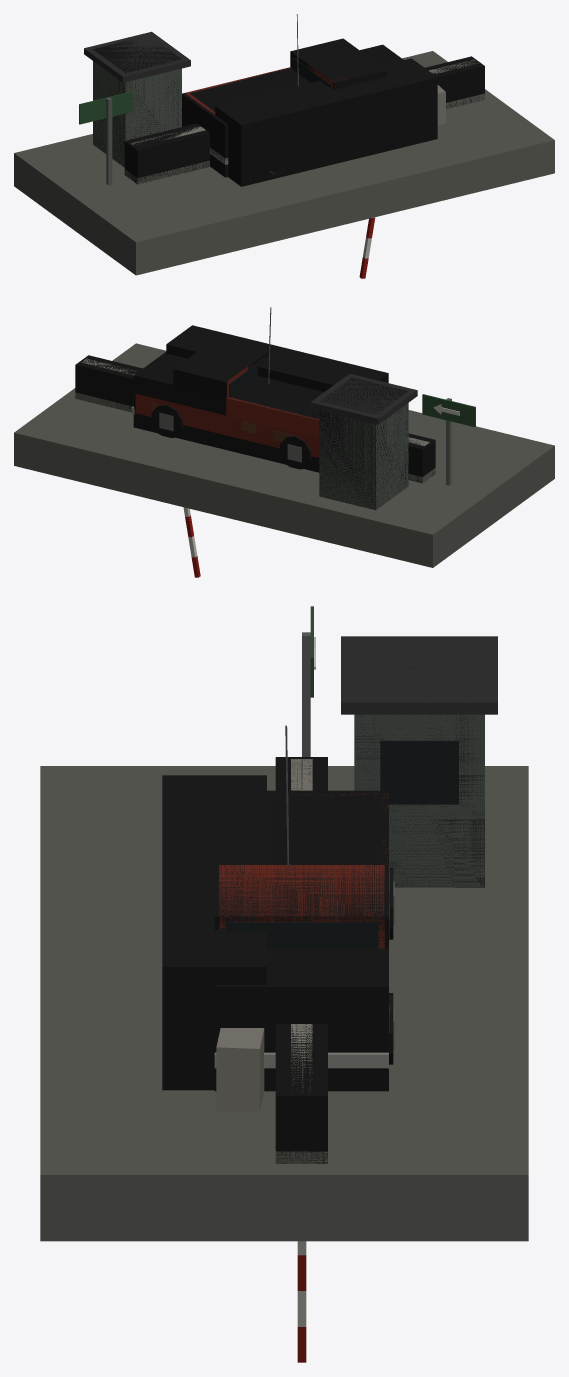
File: exits.glb
3 views of the same model, one above another, from view 1: azimuth 30°, elevation 25°; view 2: azimuth 150°, elevation 25°; view 3: azimuth 270°, elevation 25° (orthographic). The views are drawn at different scales.
Visible parts, largest first — view 1: EXIT_Gate, EXIT_Gate_Barricade_Hull, EXIT_Gate_Hull, EXIT_Truck_Hull, EXIT_Truck, EXIT_Gate_Blocked; view 2: EXIT_Gate, EXIT_Gate_Hull, EXIT_Truck_Hull, EXIT_Truck, EXIT_Gate_Barricade_Hull; view 3: EXIT_Gate, EXIT_Truck_Hull, EXIT_Gate_Barricade_Hull, EXIT_Truck, EXIT_Gate_Hull, EXIT_Gate_Blocked.
Part boxes in pixels (x1=…): EXIT_Gate: x1=14, y1=31, x2=554, y2=278; EXIT_Gate_Barricade_Hull: x1=215, y1=58, x2=437, y2=186; EXIT_Gate_Hull: x1=93, y1=38, x2=484, y2=184; EXIT_Truck_Hull: x1=182, y1=38, x2=403, y2=177; EXIT_Truck: x1=185, y1=57, x2=346, y2=164; EXIT_Gate_Blocked: x1=270, y1=85, x2=445, y2=173; EXIT_Gate: x1=14, y1=343, x2=554, y2=577; EXIT_Gate_Hull: x1=75, y1=355, x2=435, y2=510; EXIT_Truck_Hull: x1=133, y1=337, x2=323, y2=472; EXIT_Truck: x1=131, y1=356, x2=319, y2=469; EXIT_Gate_Barricade_Hull: x1=166, y1=325, x2=388, y2=391; EXIT_Gate: x1=40, y1=606, x2=528, y2=1362; EXIT_Truck_Hull: x1=214, y1=790, x2=388, y2=1091; EXIT_Gate_Barricade_Hull: x1=162, y1=775, x2=266, y2=1090; EXIT_Truck: x1=214, y1=793, x2=394, y2=1068; EXIT_Gate_Hull: x1=275, y1=642, x2=484, y2=1163; EXIT_Gate_Blocked: x1=216, y1=1028, x2=264, y2=1112.
Size of the model in its own units: 11.1 by 7.18 by 5.6.
